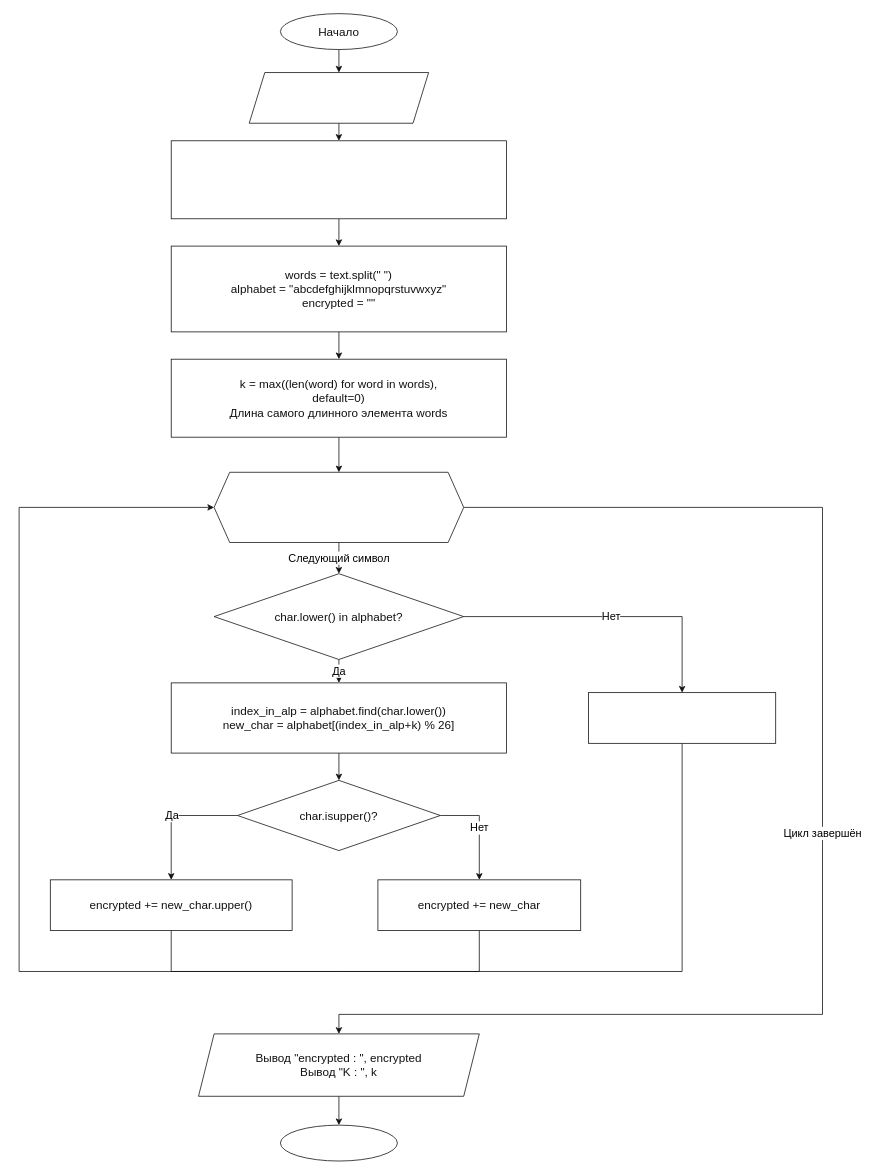
The diagram is 875 pixels wide and 1175 high, and some of its shapes have lost their labels. Each missing label, with the centre of its shape:
encrypted += char: the point at 682,717
text = text.replace(",", " ").replace(".", " ") Замена запятых и точек пробелами: the point at 338,179
Ввод text: the point at 338,97
Для каждого char из text: the point at 338,507
Конец: the point at 338,1142
